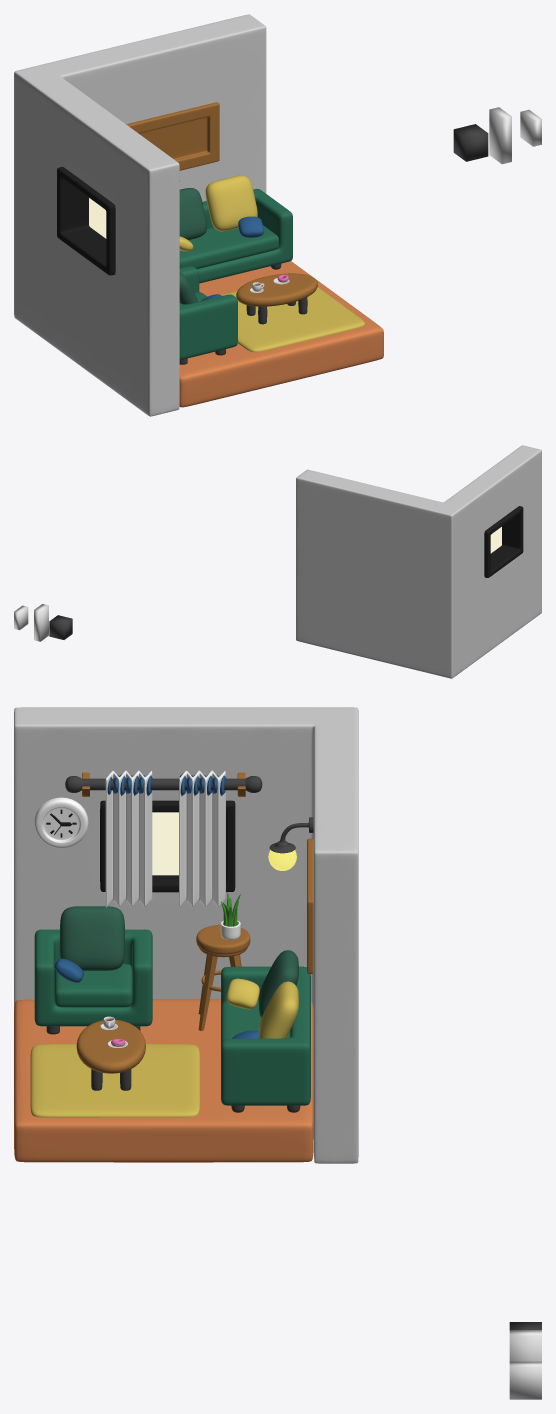
Rendered from house.gltf.
3 renders of one model, top to bottom at view 1: azimuth 30°, elevation 25°; view 2: azimuth 150°, elevation 25°; view 3: azimuth 270°, elevation 25°, orthographic. The views are drawn at different scales.
Visible parts, largest first — view 1: Walls, Floor, DoubleCouch, Rug, Window, Frame, SingleCouch, CouchCousin.002, table, CouchCousin, Cube.017, Cube.016 (+2 smaller); view 2: Walls, Window, Cube.017, Cube.016, Cube.018; view 3: Walls, Floor, Rug, DoubleCouch, SingleCouch, CurtainSecond, Curtain, Window, CouchCousin.001, table, Clock, CouchCousin.002 (+8 smaller).
Part boxes in pixels (box(x1,y1,x2,y2)): Walls: box(14, 14, 266, 416); Floor: box(179, 261, 383, 407); DoubleCouch: box(179, 189, 292, 283); Rug: box(220, 287, 365, 352); Window: box(57, 166, 115, 275); Frame: box(126, 102, 219, 170); SingleCouch: box(179, 266, 237, 359); CouchCousin.002: box(205, 175, 257, 231); table: box(236, 273, 317, 306); CouchCousin: box(179, 188, 206, 240); Cube.017: box(489, 107, 511, 164); Cube.016: box(453, 124, 488, 161); Walls: box(296, 445, 541, 678); Window: box(484, 506, 523, 577); Cube.017: box(34, 604, 48, 641); Cube.016: box(49, 615, 72, 639); Cube.018: box(14, 605, 28, 630); Walls: box(14, 707, 358, 1163); Floor: box(14, 999, 313, 1162); Rug: box(30, 1044, 200, 1117); DoubleCouch: box(221, 966, 310, 1105); SingleCouch: box(34, 929, 152, 1026); CurtainSecond: box(105, 770, 152, 907); Curtain: box(179, 770, 225, 907); Window: box(100, 800, 235, 892); CouchCousin.001: box(60, 906, 124, 970); table: box(76, 1019, 145, 1073); Clock: box(34, 797, 88, 848); CouchCousin.002: box(259, 981, 298, 1038).
Size of what is drawn, in the model's own units: 8.68 by 3.78 by 5.28.
